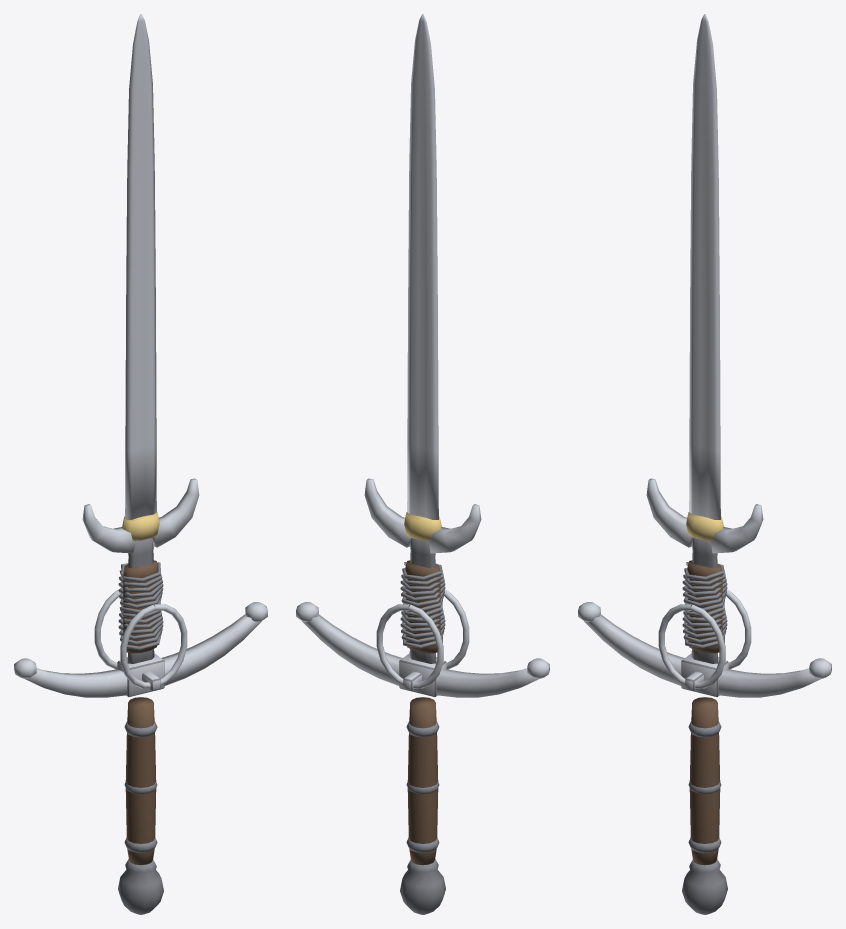
Rendered from weapon_greatsword.glb.
The picture shows the model from 3 angles, left to right: view 1: azimuth 30°, elevation 25°; view 2: azimuth 150°, elevation 25°; view 3: azimuth 330°, elevation 25°; orthographic projection.
Visible parts, largest first — view 1: M_Weapon; view 2: M_Weapon; view 3: M_Weapon.
Part boxes in pixels (x1=…): M_Weapon: x1=14, y1=14, x2=267, y2=914; M_Weapon: x1=296, y1=14, x2=549, y2=914; M_Weapon: x1=578, y1=14, x2=831, y2=914.
Bounding box in the file's own units: 0.4741 × 1.62 × 0.1024.
